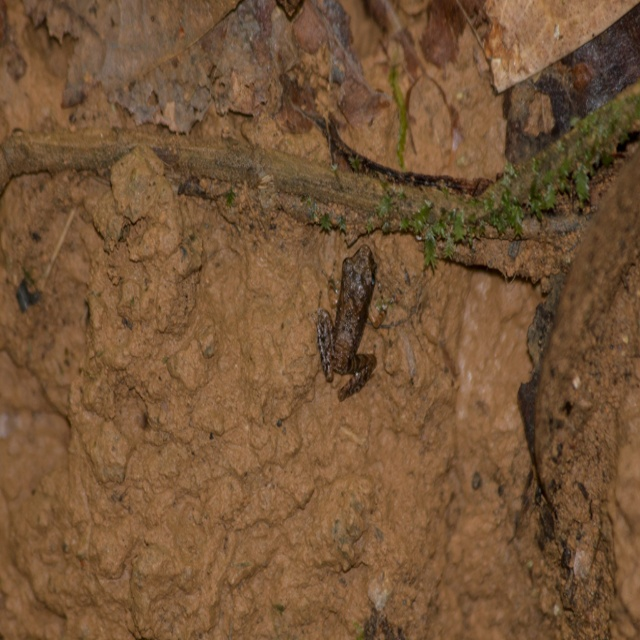Frog: (317, 247, 380, 401)
